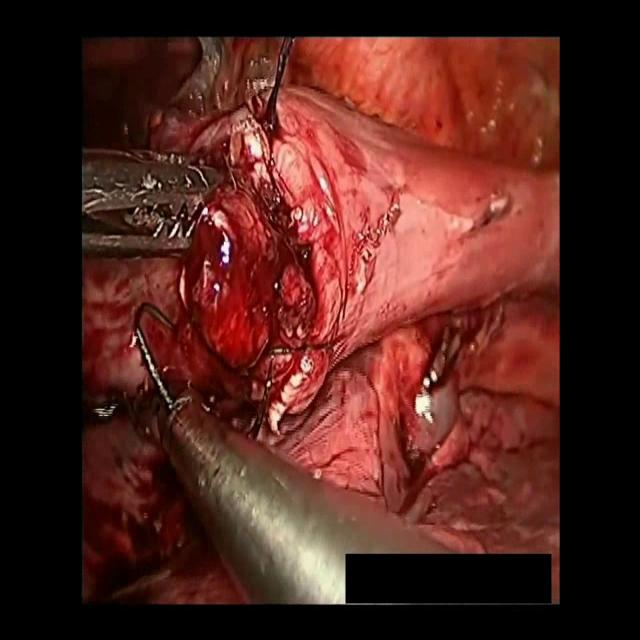surgical-area: (80, 37, 560, 610)
surgical-tool: (138, 327, 452, 606), (81, 144, 228, 258)
